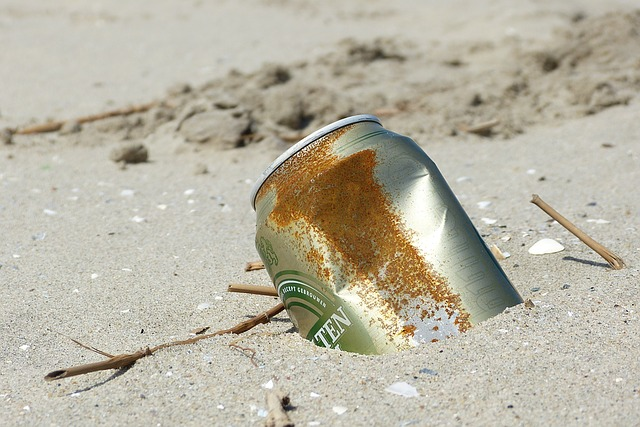can: (232, 106, 536, 354)
